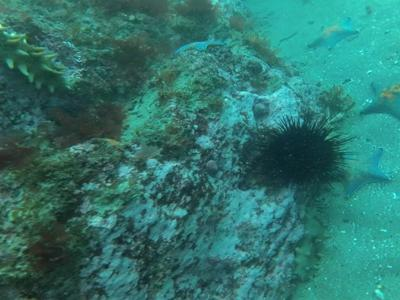holothurian: (1, 23, 83, 99), (291, 206, 327, 282)
urchin: (245, 111, 348, 193)
